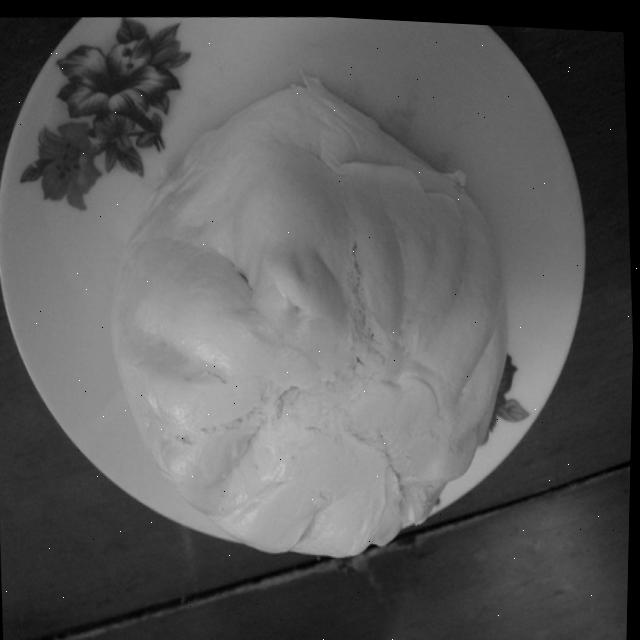带馅早点: (73, 27, 547, 588)
